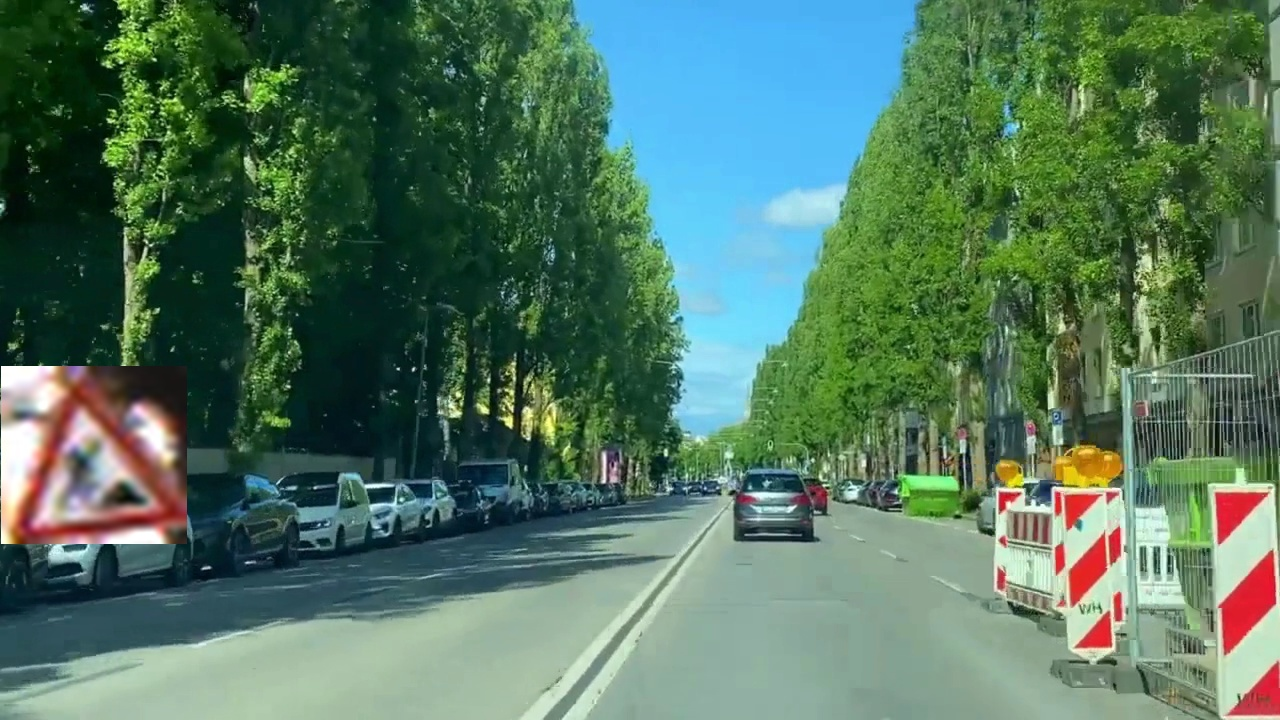Road work: (1, 366, 187, 544)
